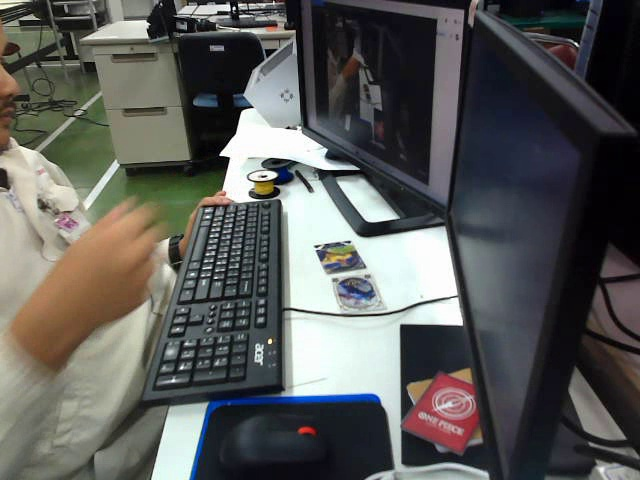can: (307, 235, 368, 271), (327, 274, 387, 310)
